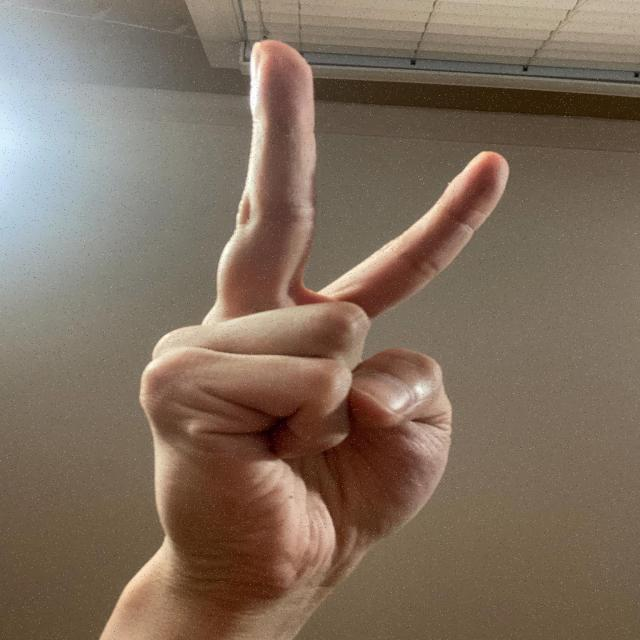V: (131, 35, 517, 609)
